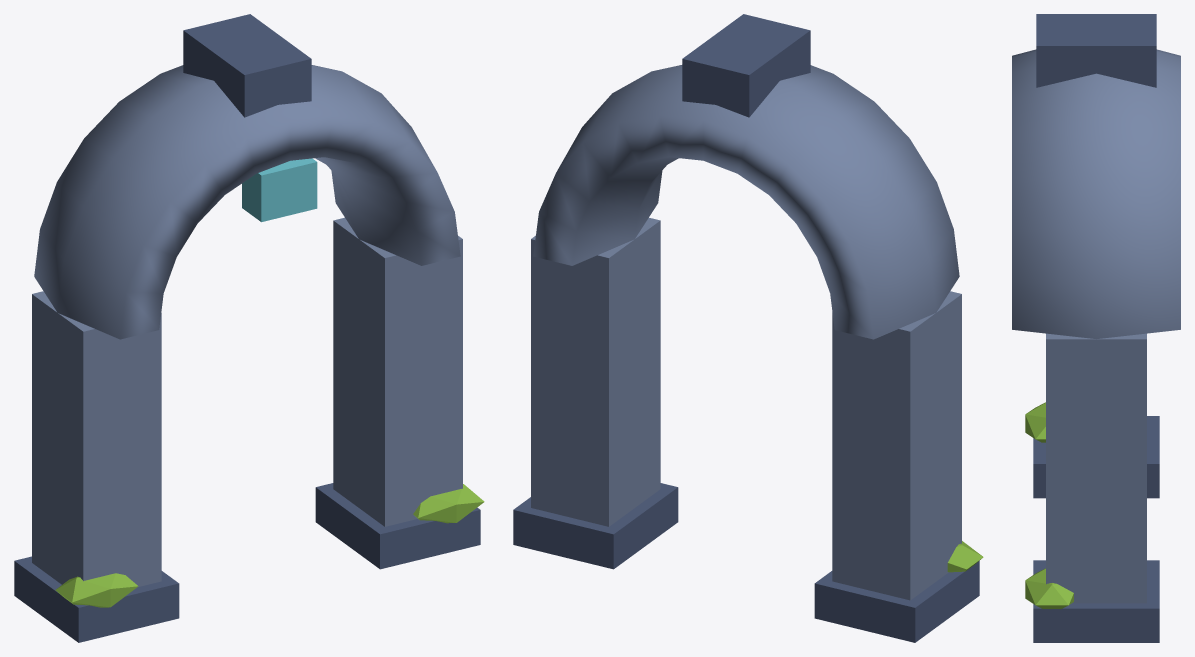
The model's file is stoneArch.glb.
The picture shows the model from 3 angles, left to right: view 1: azimuth 30°, elevation 25°; view 2: azimuth 150°, elevation 25°; view 3: azimuth 270°, elevation 25°; orthographic projection.
Parts seen in each view (by area): view 1: stoneArch_mesh; view 2: stoneArch_mesh; view 3: stoneArch_mesh.
Boxes of the visible parts, bbox=[...] form: stoneArch_mesh: bbox=[14, 14, 484, 642]; stoneArch_mesh: bbox=[513, 14, 983, 642]; stoneArch_mesh: bbox=[1012, 14, 1180, 642].
Bounding box in the file's own units: 3.7 × 4.5 × 1.33.
